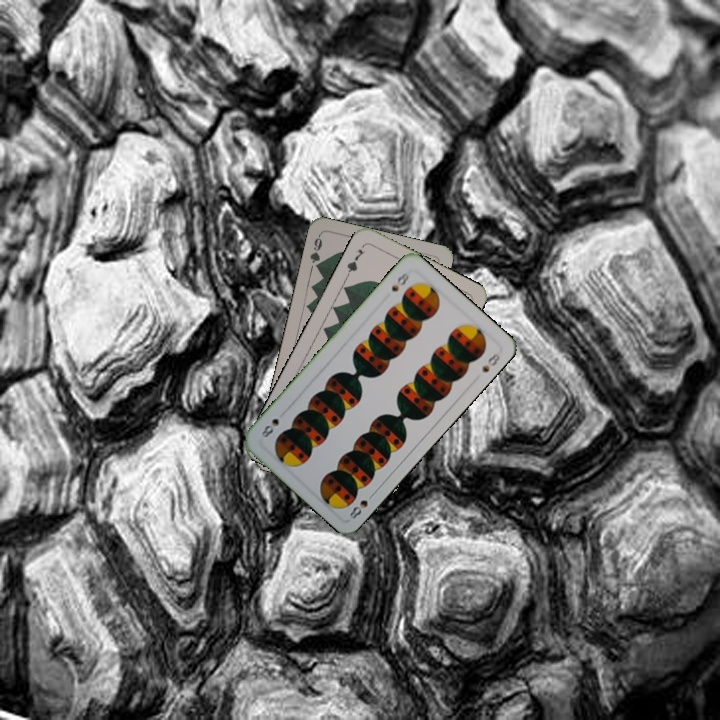G7: (343, 241, 367, 279)
G9: (306, 231, 325, 273)
S8: (345, 488, 378, 522), (387, 268, 412, 294)
